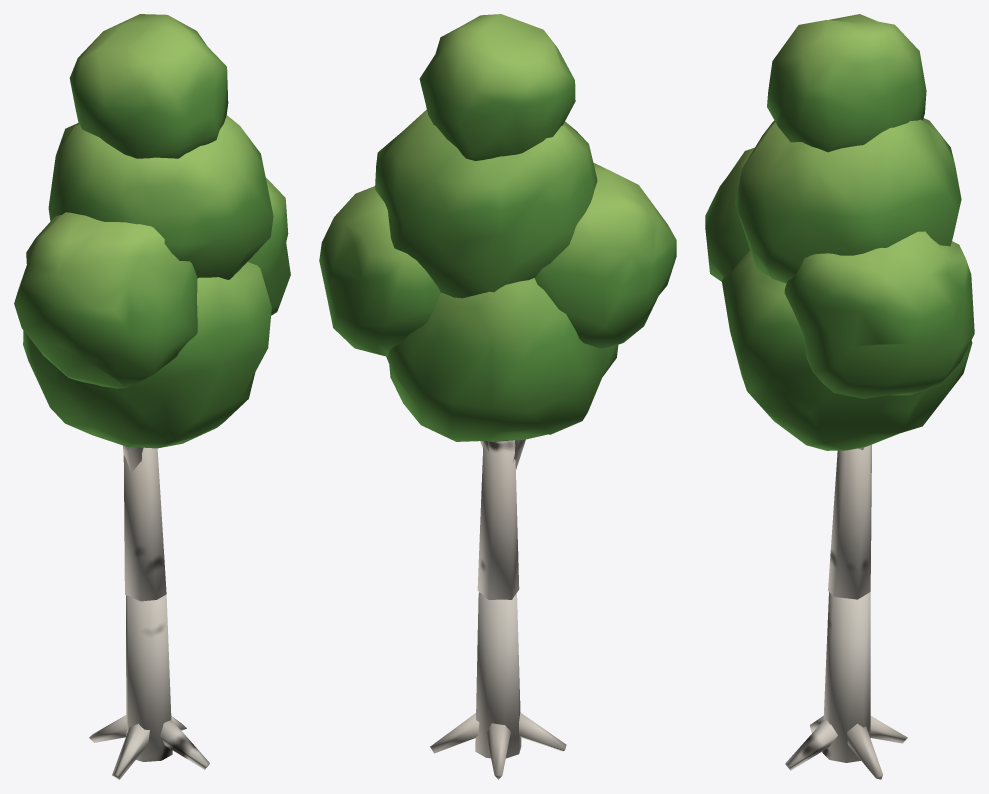
Rendered from season_decid_b_summer.glb.
The picture shows the model from 3 angles, left to right: view 1: azimuth 30°, elevation 25°; view 2: azimuth 150°, elevation 25°; view 3: azimuth 270°, elevation 25°; orthographic projection.
Visible parts, largest first — view 1: branches; view 2: branches; view 3: branches.
Boxes of the visible parts, bbox=[...] form: branches: bbox=[14, 14, 290, 779]; branches: bbox=[319, 14, 676, 779]; branches: bbox=[705, 14, 974, 779].
Size of the model in its own units: 1.81 by 4.38 by 1.44.
Materials: 1 (1 with a texture image).
